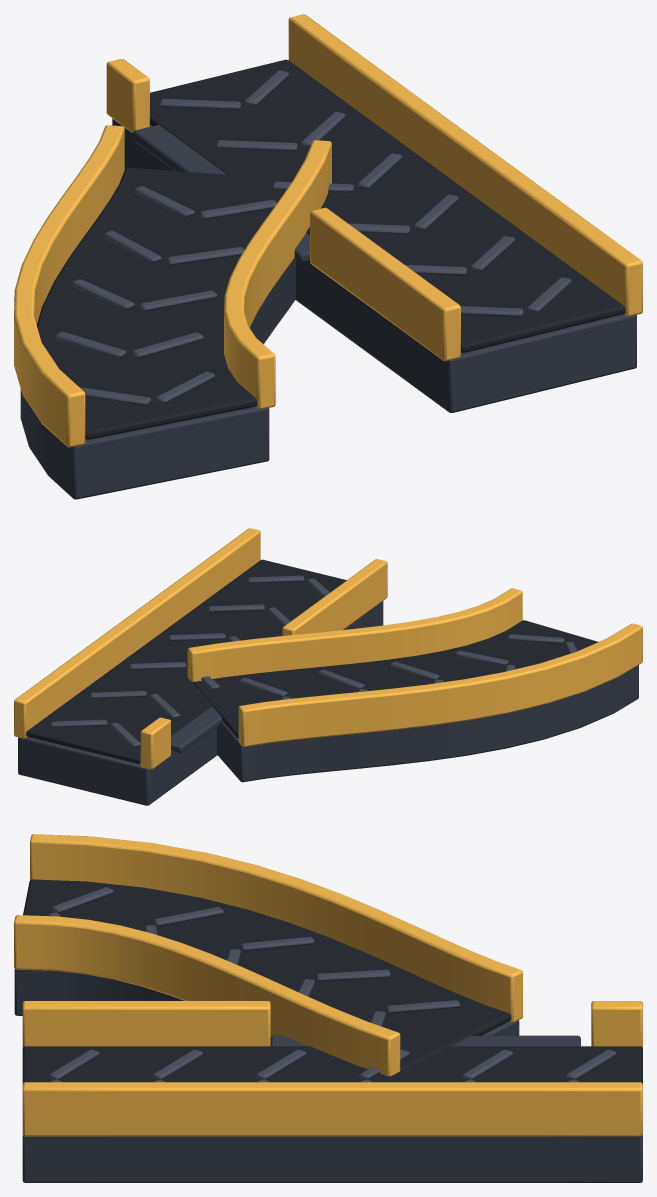
The model's file is band_weiche_y.fbx.
3 views of the same model, one above another, from view 1: azimuth 30°, elevation 25°; view 2: azimuth 150°, elevation 25°; view 3: azimuth 270°, elevation 25° (orthographic). The views are drawn at different scales.
Parts seen in each view (by area): view 1: band_weiche_y_Koerper; view 2: band_weiche_y_Koerper; view 3: band_weiche_y_Koerper.
Part boxes in pixels (x1,y1,x2,y2): band_weiche_y_Koerper: (14,14,642,499); band_weiche_y_Koerper: (14,528,642,805); band_weiche_y_Koerper: (14,834,642,1182).
Size of the model in its own units: 2.92 by 0.525 by 3.04.
